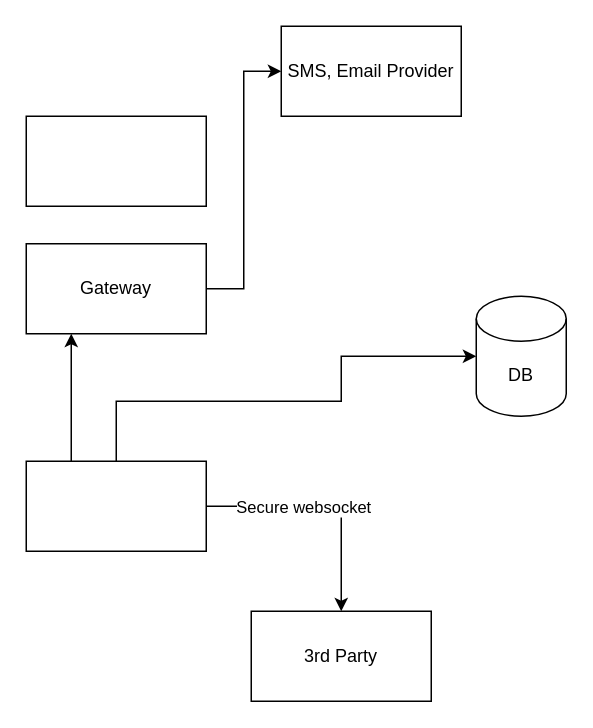
Some shapes in this 593 by 728 pixel diagram are drawn without their labels. The box of each missing label's shape, as (x1, y1, x2, y2) in pixels:
ACS: (25, 460, 206, 551)
E Secure Hosting: (25, 115, 206, 206)
